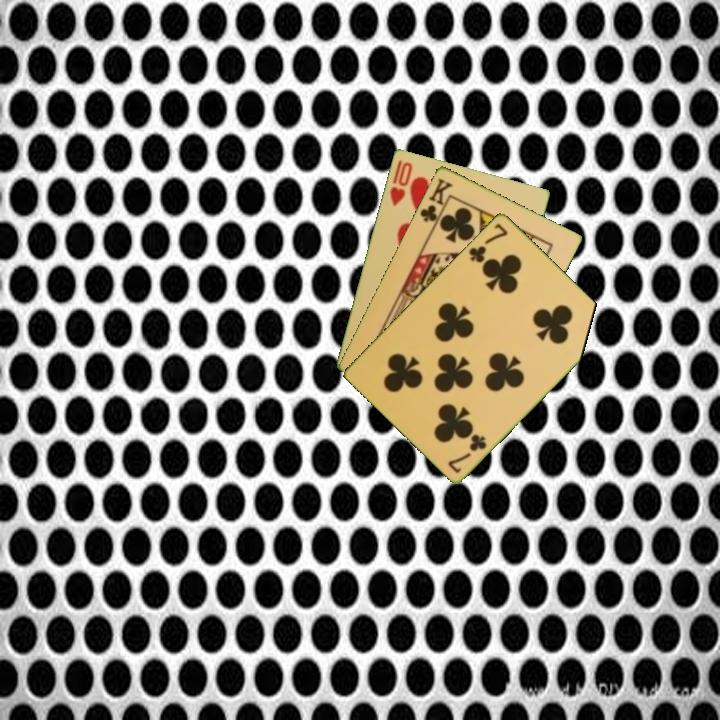10h: (386, 158, 415, 209)
7c: (465, 219, 511, 265), (444, 430, 490, 476)
Kc: (416, 174, 455, 230)
